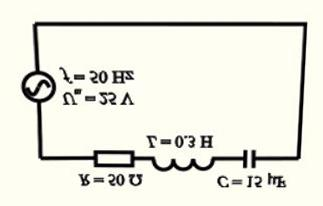inductor: (142, 147, 221, 173)
